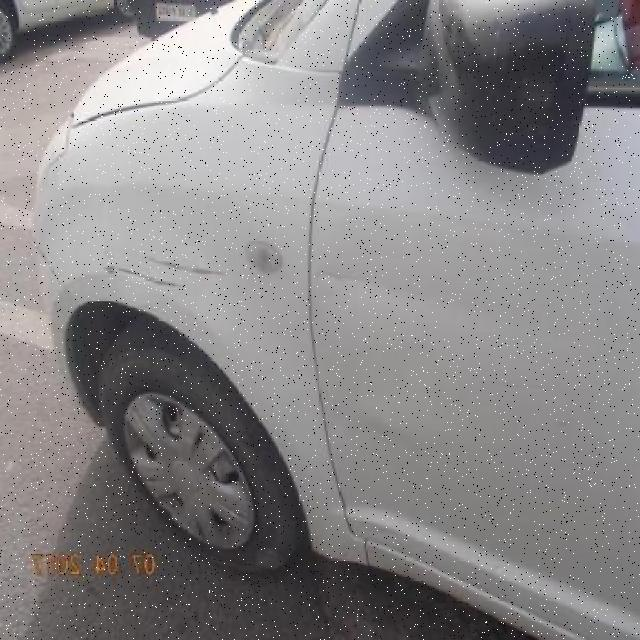damage: (313, 262, 546, 335), (324, 346, 425, 469), (98, 249, 182, 291), (476, 377, 578, 403), (143, 248, 223, 281), (550, 415, 573, 431)
